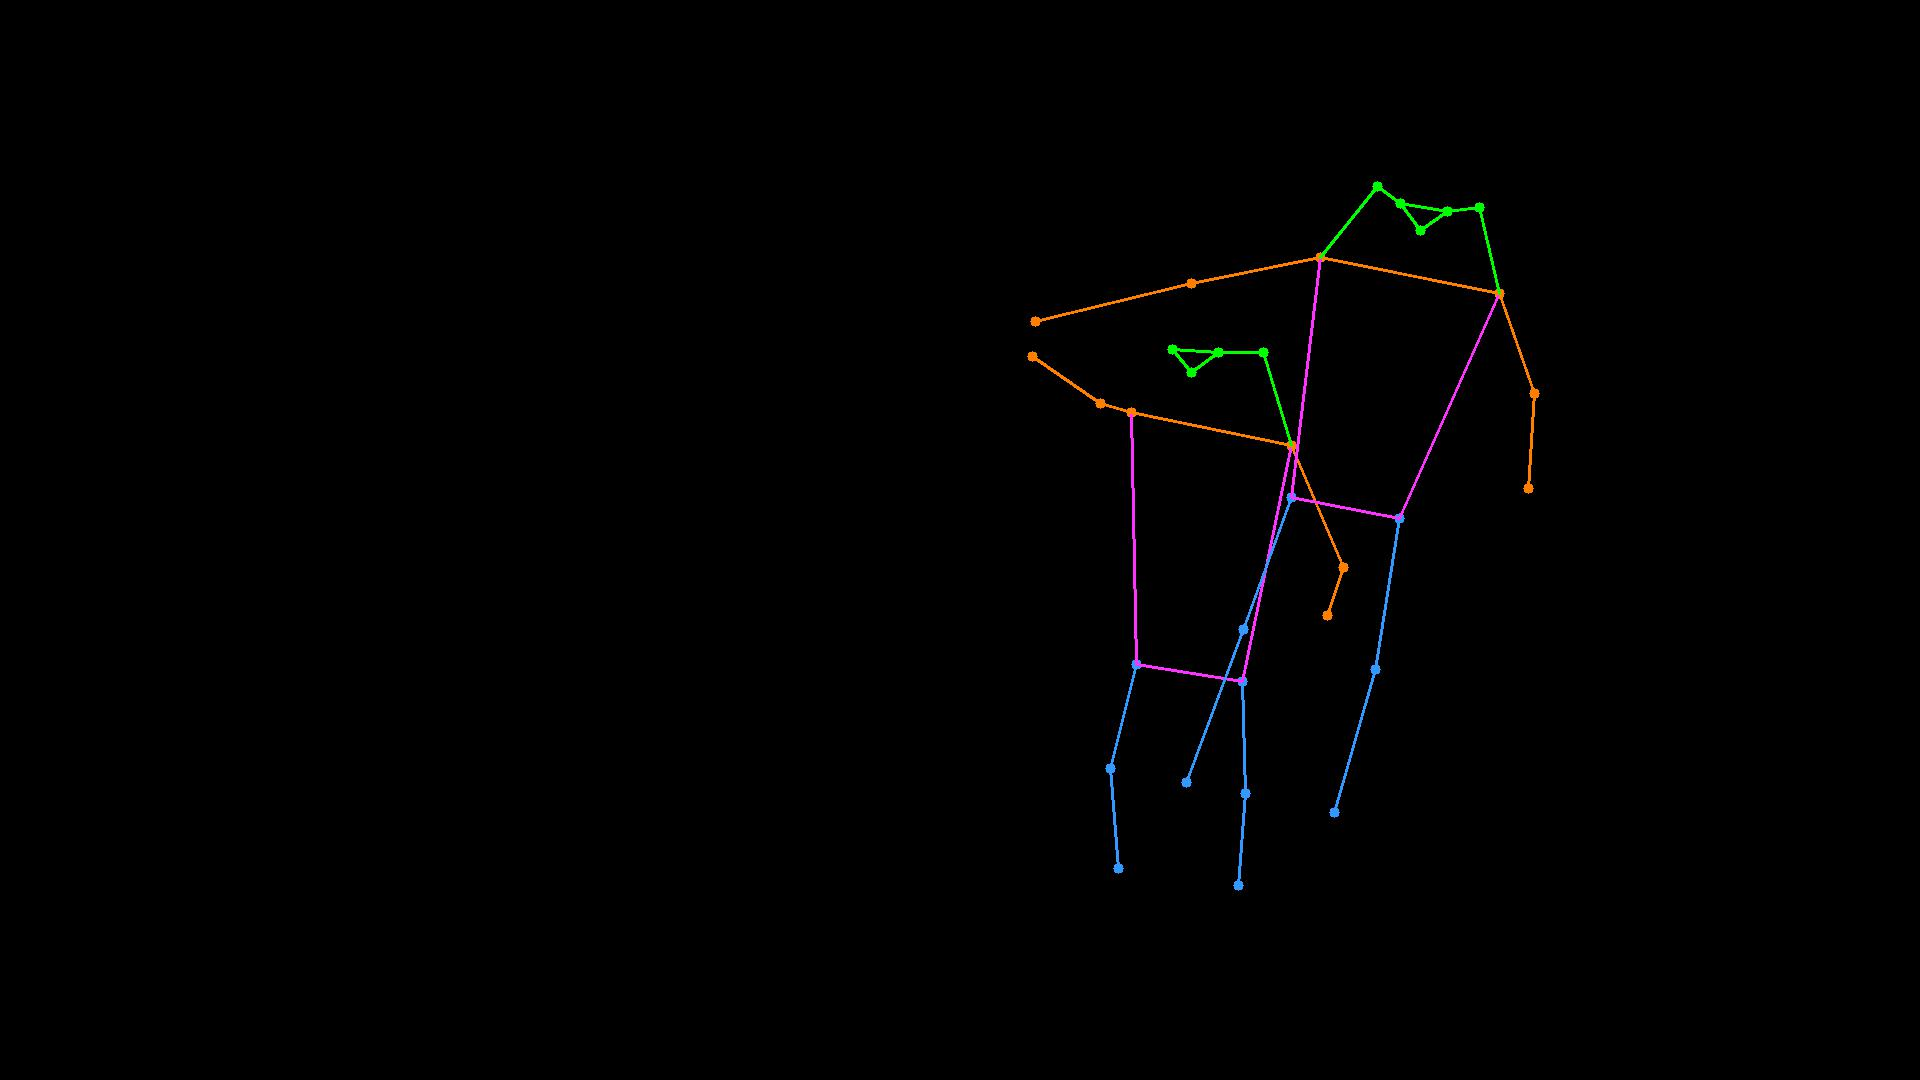normal: (944, 124, 1635, 942)
